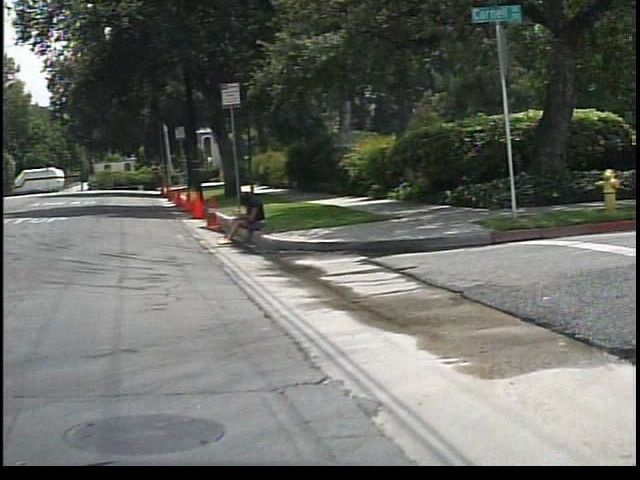person: (223, 191, 280, 246)
